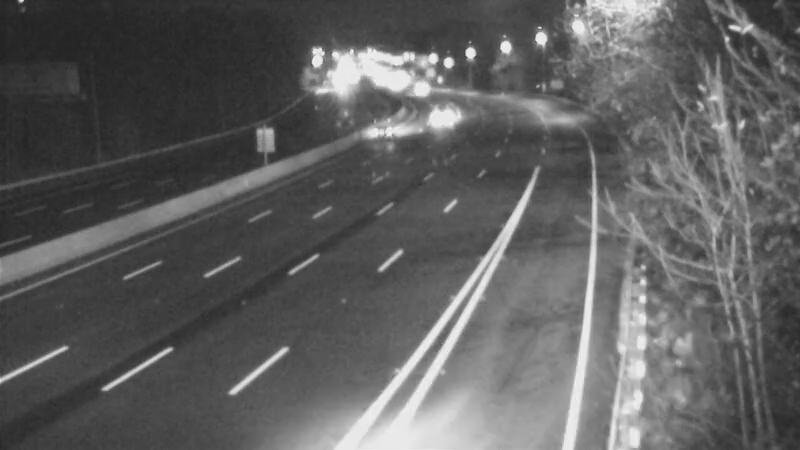vehicle: (413, 87, 463, 137), (353, 109, 403, 159)
